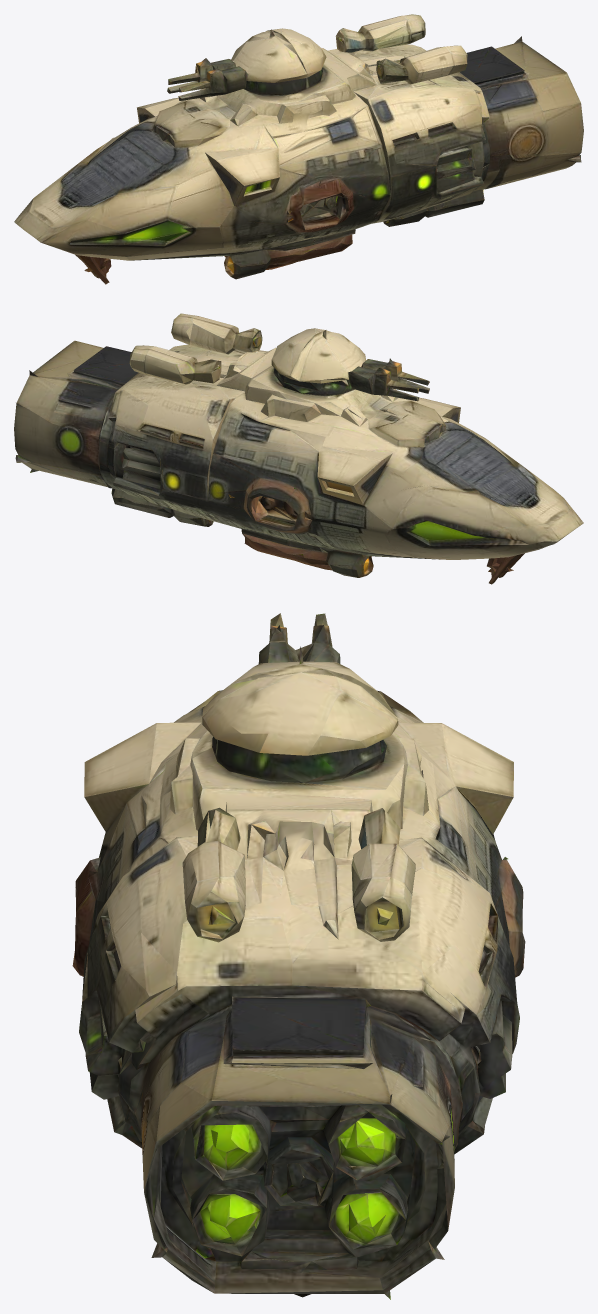
File: nation-v-cruiser.glb
The picture shows the model from 3 angles, top to bottom: view 1: azimuth 30°, elevation 25°; view 2: azimuth 150°, elevation 25°; view 3: azimuth 270°, elevation 25°; orthographic projection. The views are drawn at different scales.
Size of the model in its own units: 1.89 by 0.804 by 0.7124.
1 material, 1 textured.
